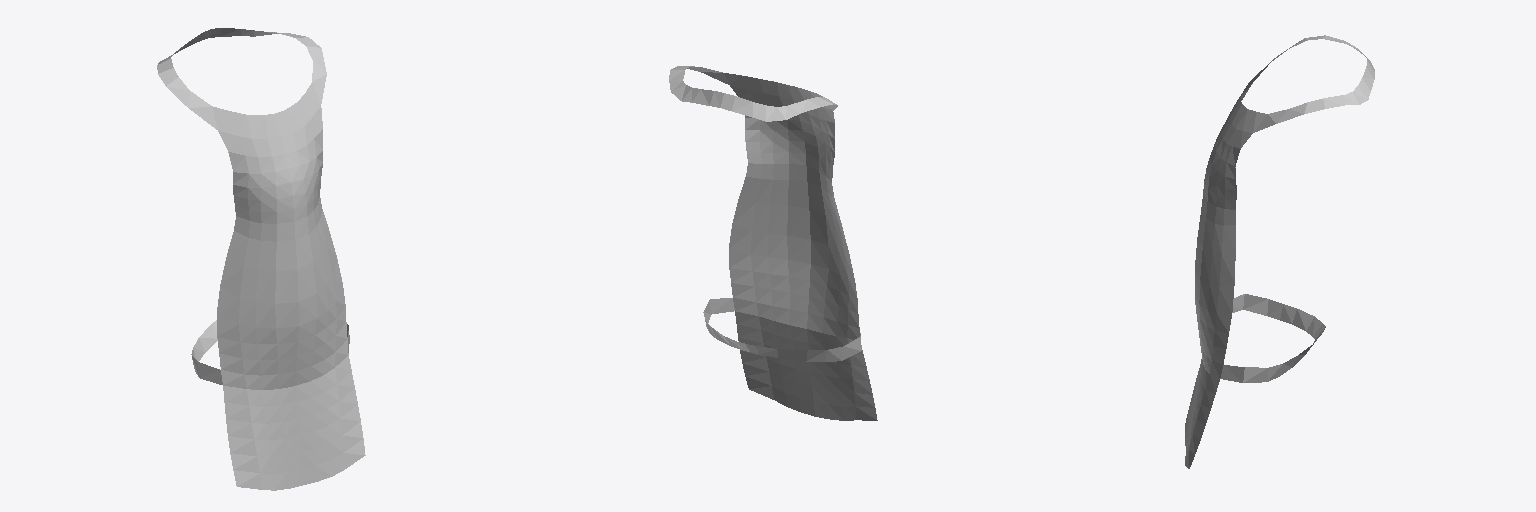
Rendered from apron_3.obj.
3 views of the same model, side by side, from view 1: azimuth 30°, elevation 25°; view 2: azimuth 150°, elevation 25°; view 3: azimuth 270°, elevation 25° (orthographic).
Visible parts, largest first — view 1: apron_base_Plane.039; view 2: apron_base_Plane.039; view 3: apron_base_Plane.039.
Boxes of the visible parts, box(x1,y1,x2,y2) form: apron_base_Plane.039: box(157, 28, 365, 490); apron_base_Plane.039: box(669, 66, 877, 420); apron_base_Plane.039: box(1185, 35, 1374, 468).
Size of the model in its own units: 0.6303 by 1.51 by 0.6664.